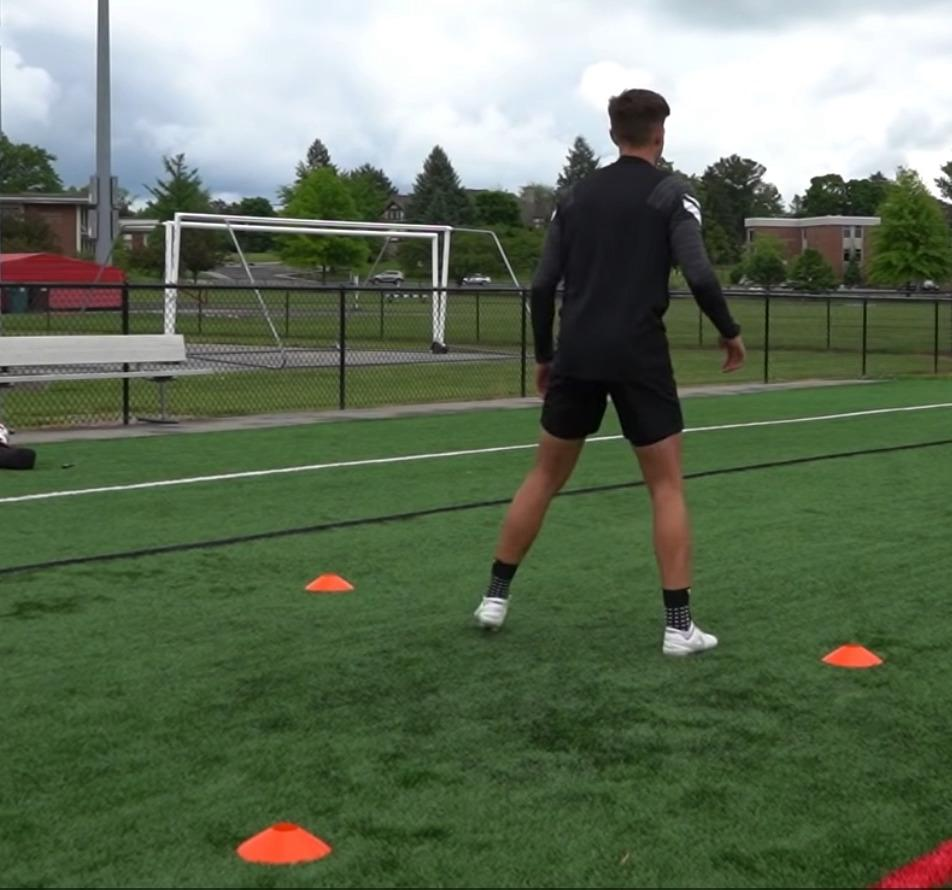foot: (664, 619, 719, 656), (473, 595, 511, 633)
person: (470, 87, 746, 655)
